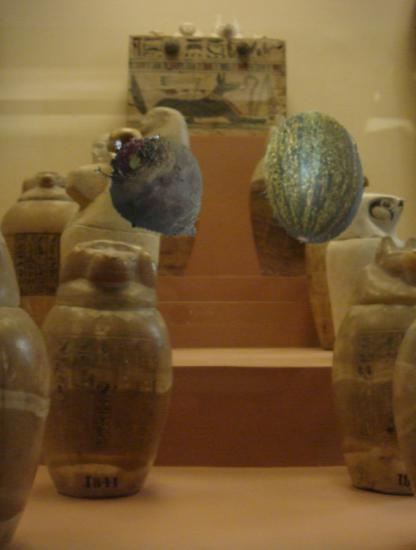Beetroot: (91, 119, 230, 258)
Melon: (247, 112, 379, 244)
